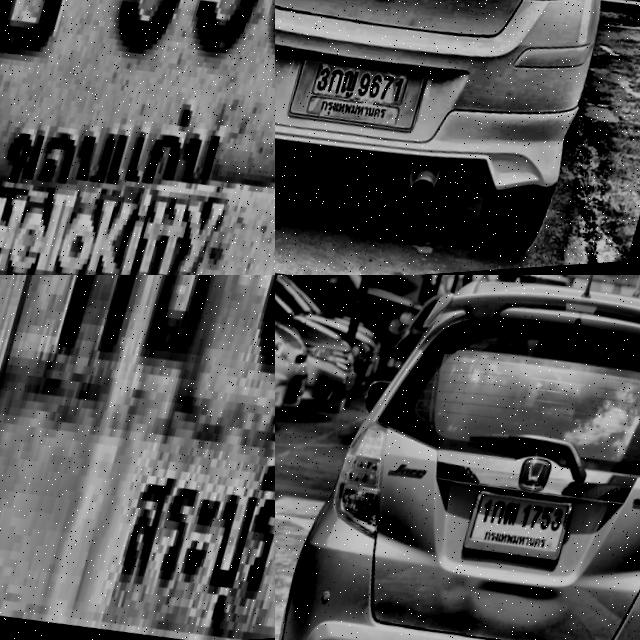license-plate: (0, 275, 275, 640), (0, 0, 275, 275), (288, 43, 444, 150), (457, 473, 589, 587)
